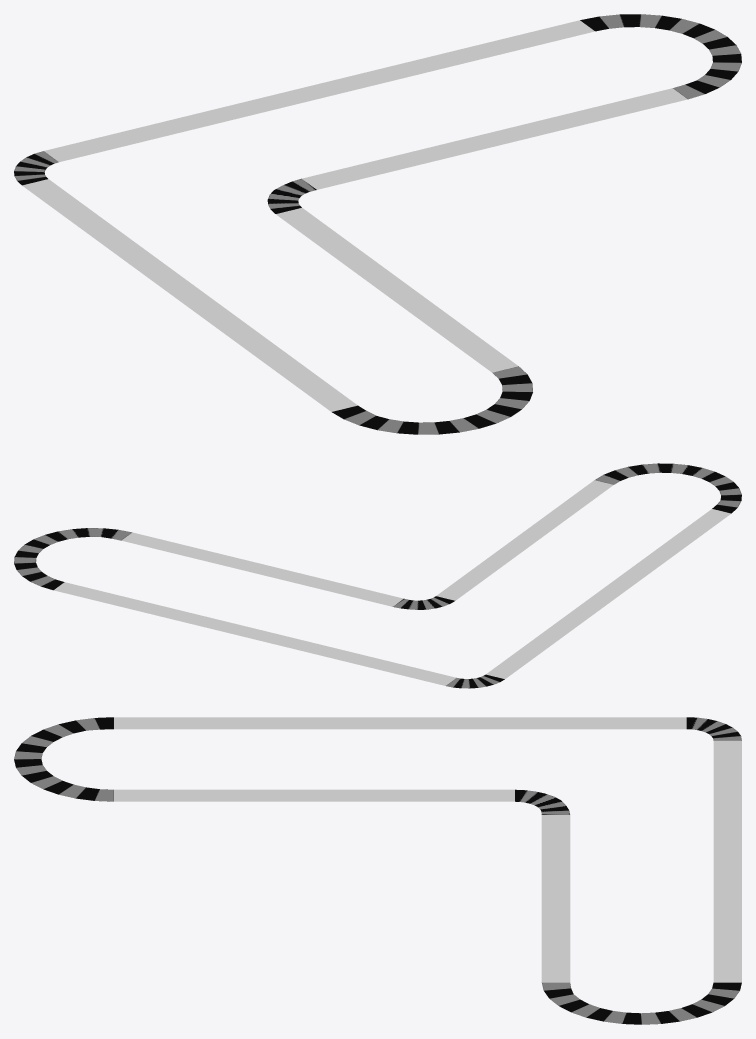
The picture shows the model from 3 angles, top to bottom: view 1: azimuth 30°, elevation 25°; view 2: azimuth 150°, elevation 25°; view 3: azimuth 270°, elevation 25°; orthographic projection. The views are drawn at different scales.
Visible parts, largest first — view 1: Plane.001, Plane, Plane.002, Plane.003, Circle.001, Circle.003, Circle.002, Circle; view 2: Plane.001, Plane, Plane.002, Plane.003, Circle.003, Circle.001, Circle.002, Circle; view 3: Plane, Plane.001, Plane.003, Plane.002, Circle.001, Circle.003, Circle.002, Circle.
Boxes of the visible parts, bbox=[...] form: Plane.001: bbox=[44, 20, 594, 162]; Plane: bbox=[22, 179, 357, 411]; Plane.002: bbox=[302, 88, 687, 189]; Plane.003: bbox=[276, 208, 518, 372]; Circle.001: bbox=[580, 14, 741, 99]; Circle.003: bbox=[332, 366, 532, 434]; Circle.002: bbox=[267, 178, 316, 213]; Circle: bbox=[14, 151, 58, 185]; Plane.001: bbox=[54, 582, 456, 685]; Plane: bbox=[486, 509, 731, 678]; Plane.002: bbox=[122, 532, 403, 606]; Plane.003: bbox=[436, 480, 613, 600]; Circle.003: bbox=[595, 463, 741, 513]; Circle.001: bbox=[14, 528, 131, 590]; Circle.002: bbox=[393, 596, 454, 609]; Circle: bbox=[446, 674, 504, 688]; Plane: bbox=[114, 717, 686, 729]; Plane.001: bbox=[713, 740, 741, 982]; Plane.003: bbox=[114, 789, 514, 801]; Plane.002: bbox=[541, 815, 570, 982]; Circle.001: bbox=[542, 982, 741, 1024]; Circle.003: bbox=[14, 717, 113, 801]; Circle.002: bbox=[515, 789, 569, 814]; Circle: bbox=[686, 717, 741, 740].
Size of the model in its own units: 51.09 by 0 by 51.09.
Materials: 4 (4 with a texture image).
